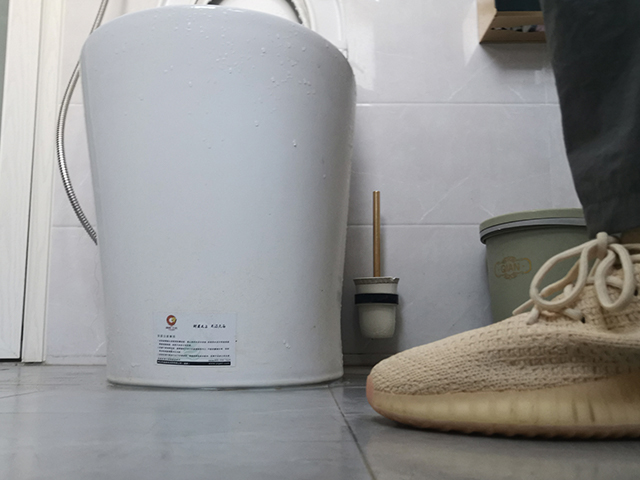closestool: (76, 1, 360, 392)
